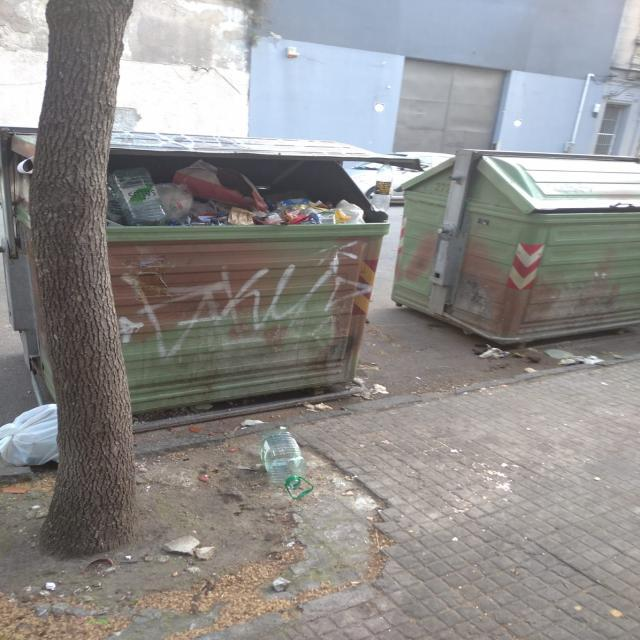garbage: (110, 170, 374, 228), (249, 427, 323, 504), (0, 398, 62, 476)
